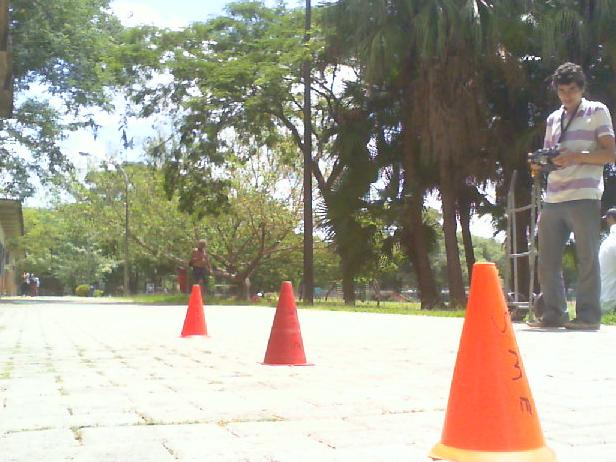0 cone: (427, 261, 557, 462), (257, 281, 316, 365), (179, 285, 211, 339)
